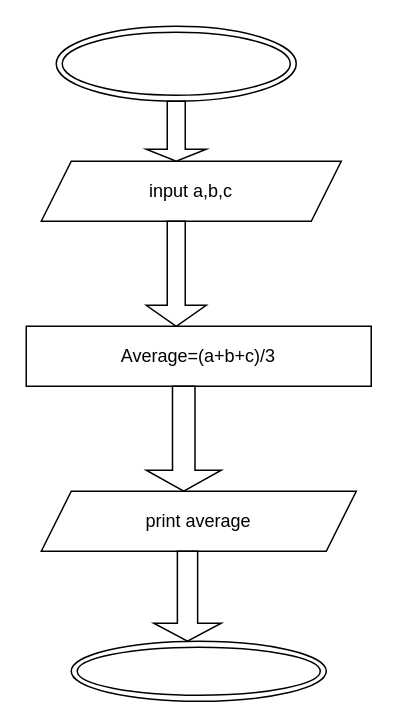
Some shapes in this 398 by 728 pixel diagram are drawn without their labels. Each missing label, with the centre of its shape:
start: point (175, 63)
stop: point (198, 670)
